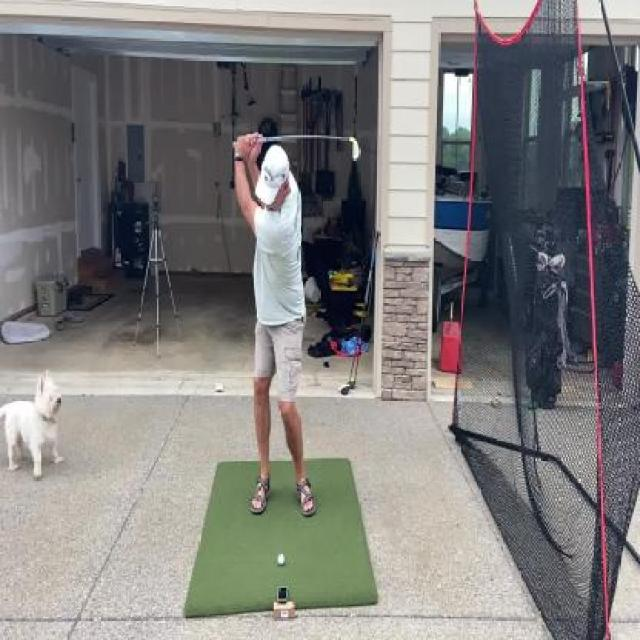club head: (347, 136, 361, 162)
